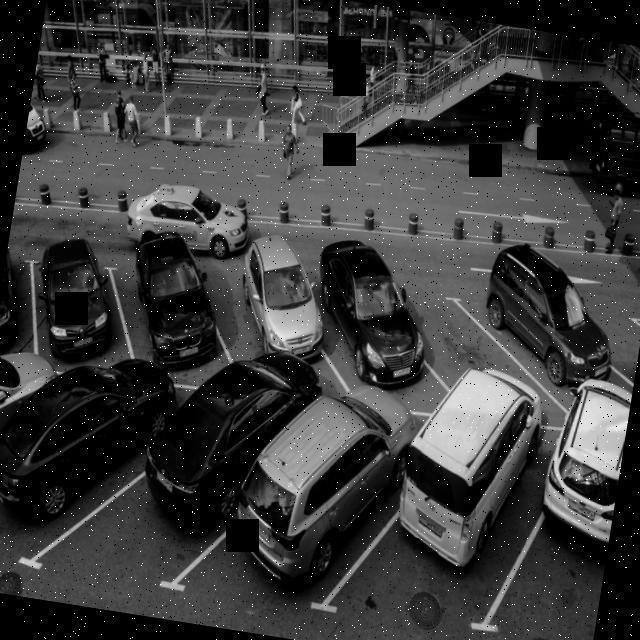empty: (386, 270, 535, 411)
occupied: (78, 322, 343, 595), (197, 355, 453, 628), (361, 368, 574, 623), (0, 338, 191, 583), (511, 390, 631, 633), (460, 258, 634, 410), (295, 244, 446, 415), (196, 238, 346, 385), (12, 234, 150, 376), (106, 238, 238, 370), (0, 232, 54, 367)
